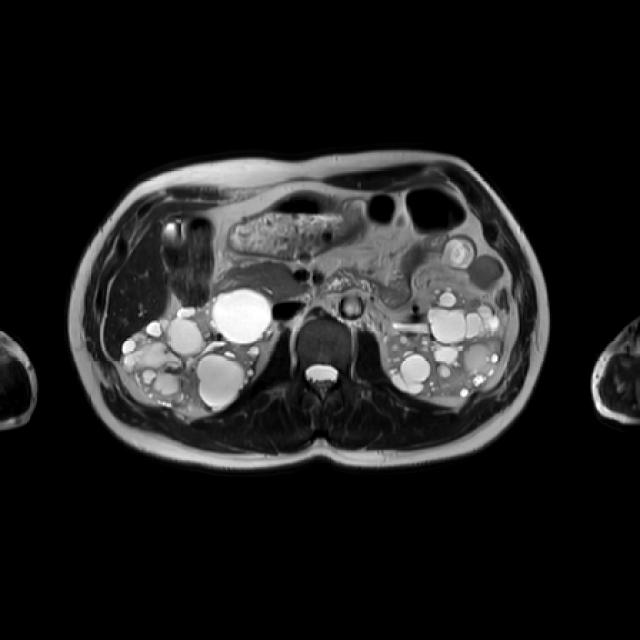sag: (121, 288, 277, 411)
sol: (383, 289, 503, 397)
